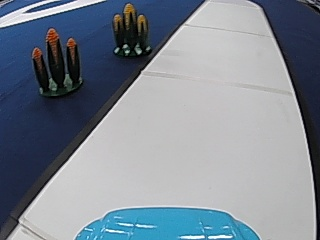corn: (30, 29, 86, 96), (110, 2, 151, 57)
